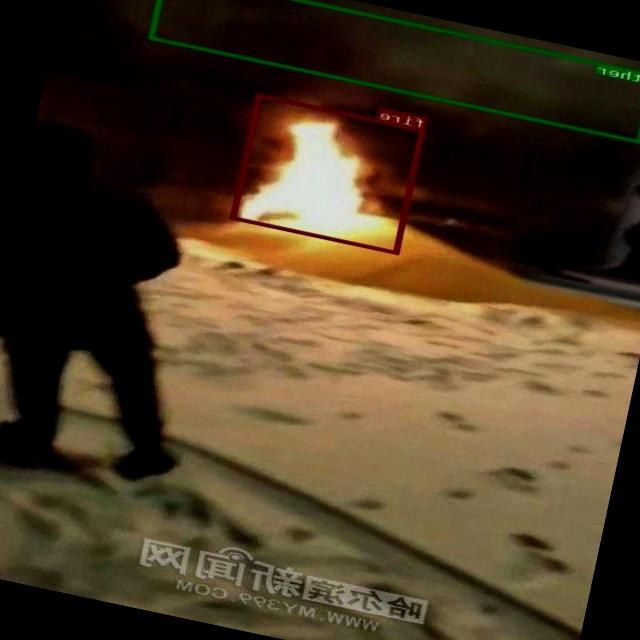fire: (231, 93, 426, 254)
